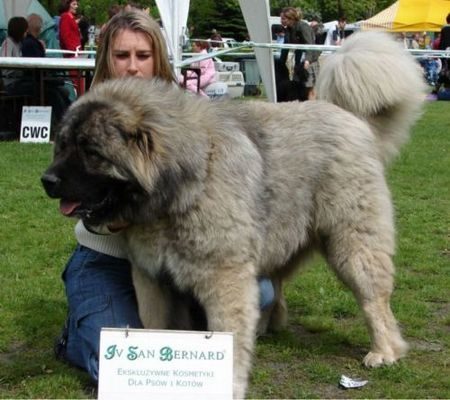cau_ovcharka: (40, 29, 427, 400)
human_face: (108, 30, 154, 79)
person: (54, 3, 276, 380), (276, 7, 317, 101)
